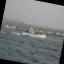fishing boat: (17, 14, 52, 44)
